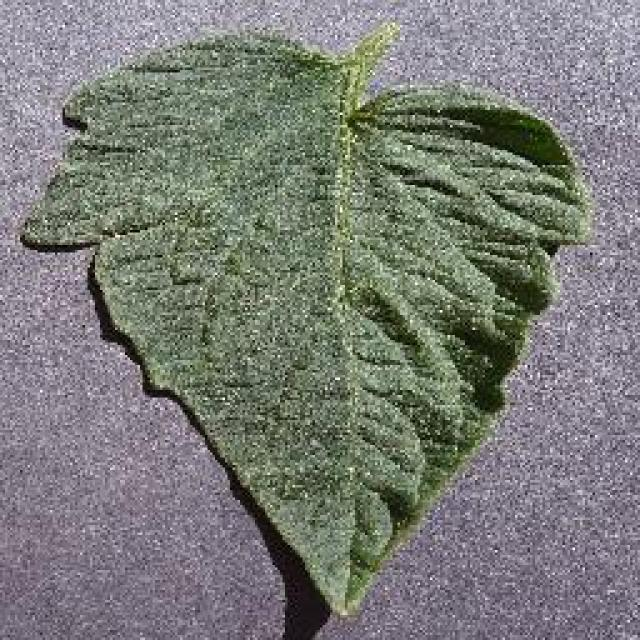Tomato___healthy: (19, 20, 584, 623)
